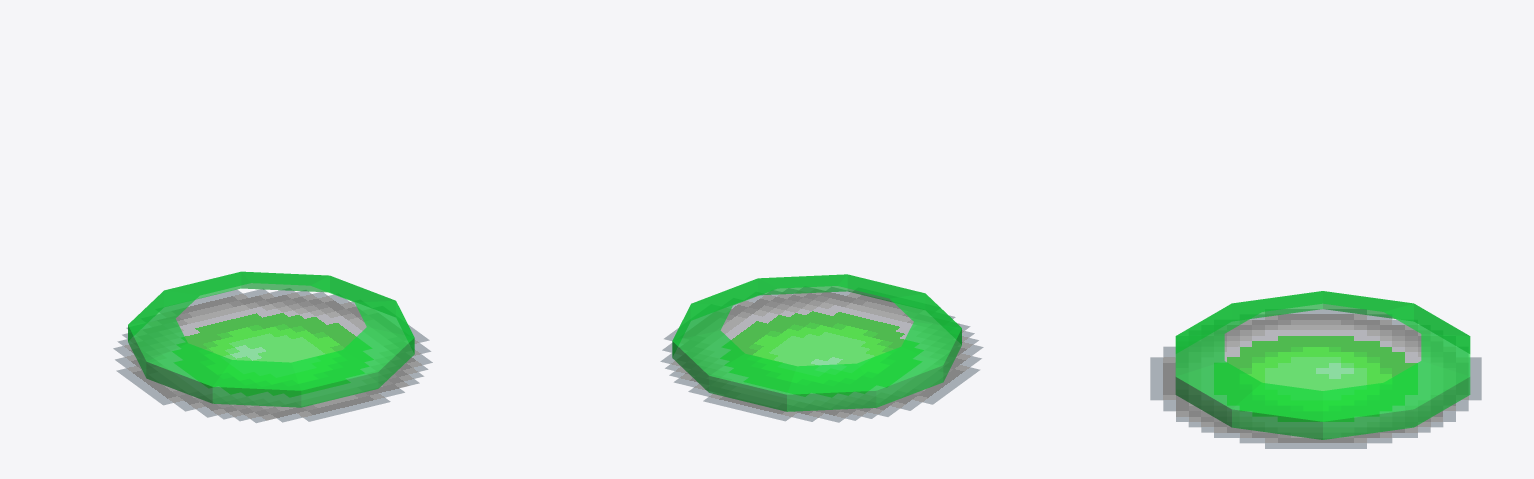
3 views of the same model, side by side, from view 1: azimuth 30°, elevation 25°; view 2: azimuth 150°, elevation 25°; view 3: azimuth 270°, elevation 25° (orthographic). The views are drawn at different scales.
Parts seen in each view (by area): view 1: polygon4, polygon0; view 2: polygon4, polygon0; view 3: polygon4, polygon0.
Part boxes in pixels (x1=…): polygon4: x1=113, y1=288, x2=432, y2=423; polygon0: x1=128, y1=271, x2=414, y2=407; polygon4: x1=660, y1=287, x2=983, y2=422; polygon0: x1=672, y1=274, x2=961, y2=411; polygon4: x1=1150, y1=309, x2=1481, y2=448; polygon0: x1=1175, y1=291, x2=1470, y2=439.
Bounding box in the file's own units: 8 × 6.5 × 8.
5 materials, 5 textured.
